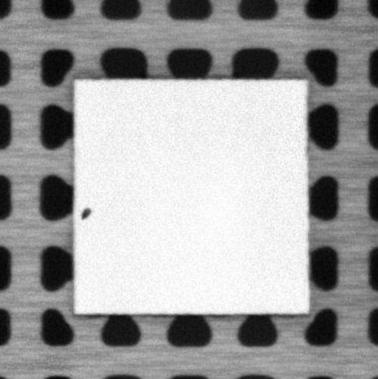DIE_INK: (80, 206, 92, 221)
